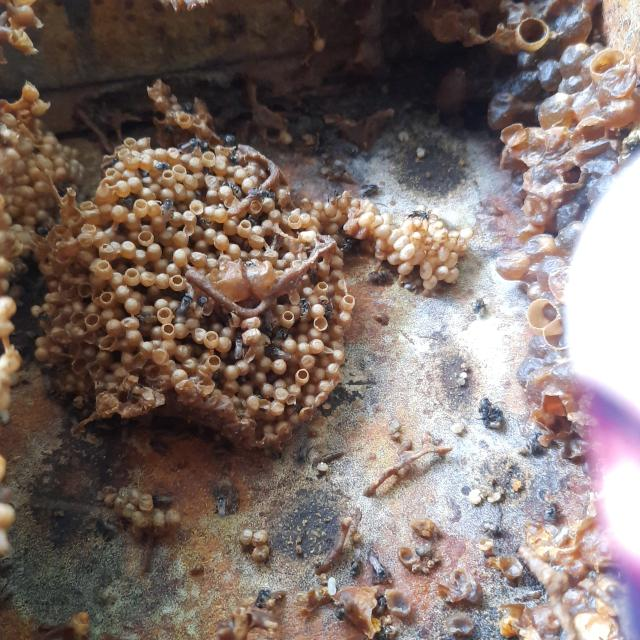honeybee: (181, 136, 208, 158), (370, 556, 392, 582), (266, 346, 293, 364), (253, 588, 272, 606), (349, 549, 362, 575), (250, 188, 276, 201), (224, 179, 240, 199), (322, 301, 334, 327), (547, 503, 560, 524), (362, 183, 383, 196), (472, 298, 488, 315), (406, 208, 430, 219), (378, 623, 393, 640), (376, 593, 386, 615), (216, 497, 226, 518), (368, 272, 387, 283), (179, 296, 190, 314), (234, 337, 242, 359), (102, 156, 118, 167), (165, 200, 172, 221), (336, 608, 348, 620), (222, 133, 235, 144), (299, 300, 307, 316), (156, 163, 169, 170), (279, 330, 287, 339), (200, 298, 207, 306)
